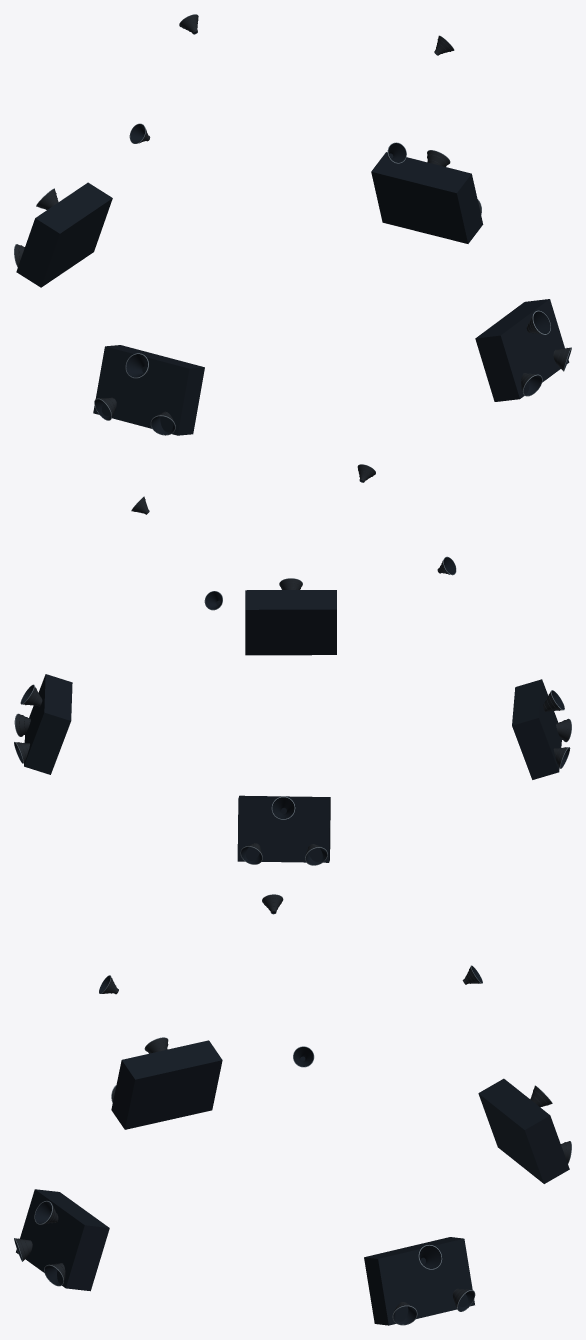
File: dragon_draco.glb
3 views of the same model, one above another, from view 1: azimuth 30°, elevation 25°; view 2: azimuth 150°, elevation 25°; view 3: azimuth 270°, elevation 25° (orthographic). The views are drawn at different scales.
Visible parts, largest first — view 1: dragon_draco.cluster_02.mesh_Shadowed_interior, dragon_draco.cluster_04.mesh_Shadowed_interior, dragon_draco.cluster_03.mesh_Shadowed_interior, dragon_draco.cluster_01.mesh_Shadowed_interior; view 2: dragon_draco.cluster_01.mesh_Shadowed_interior, dragon_draco.cluster_03.mesh_Shadowed_interior, dragon_draco.cluster_04.mesh_Shadowed_interior, dragon_draco.cluster_02.mesh_Shadowed_interior; view 3: dragon_draco.cluster_04.mesh_Shadowed_interior, dragon_draco.cluster_02.mesh_Shadowed_interior, dragon_draco.cluster_01.mesh_Shadowed_interior, dragon_draco.cluster_03.mesh_Shadowed_interior.
Boxes of the visible parts, x1,y1,x2,y2 form: dragon_draco.cluster_02.mesh_Shadowed_interior: [371, 152, 483, 243]; dragon_draco.cluster_04.mesh_Shadowed_interior: [93, 345, 204, 435]; dragon_draco.cluster_03.mesh_Shadowed_interior: [16, 182, 112, 287]; dragon_draco.cluster_01.mesh_Shadowed_interior: [475, 299, 569, 401]; dragon_draco.cluster_01.mesh_Shadowed_interior: [245, 590, 336, 655]; dragon_draco.cluster_03.mesh_Shadowed_interior: [237, 795, 330, 862]; dragon_draco.cluster_04.mesh_Shadowed_interior: [512, 679, 561, 779]; dragon_draco.cluster_02.mesh_Shadowed_interior: [24, 674, 72, 774]; dragon_draco.cluster_04.mesh_Shadowed_interior: [111, 1040, 222, 1129]; dragon_draco.cluster_02.mesh_Shadowed_interior: [364, 1237, 474, 1325]; dragon_draco.cluster_01.mesh_Shadowed_interior: [16, 1189, 109, 1291]; dragon_draco.cluster_03.mesh_Shadowed_interior: [478, 1078, 569, 1183].
Size of the model in its own units: 3.29 by 1.6 by 3.27.
